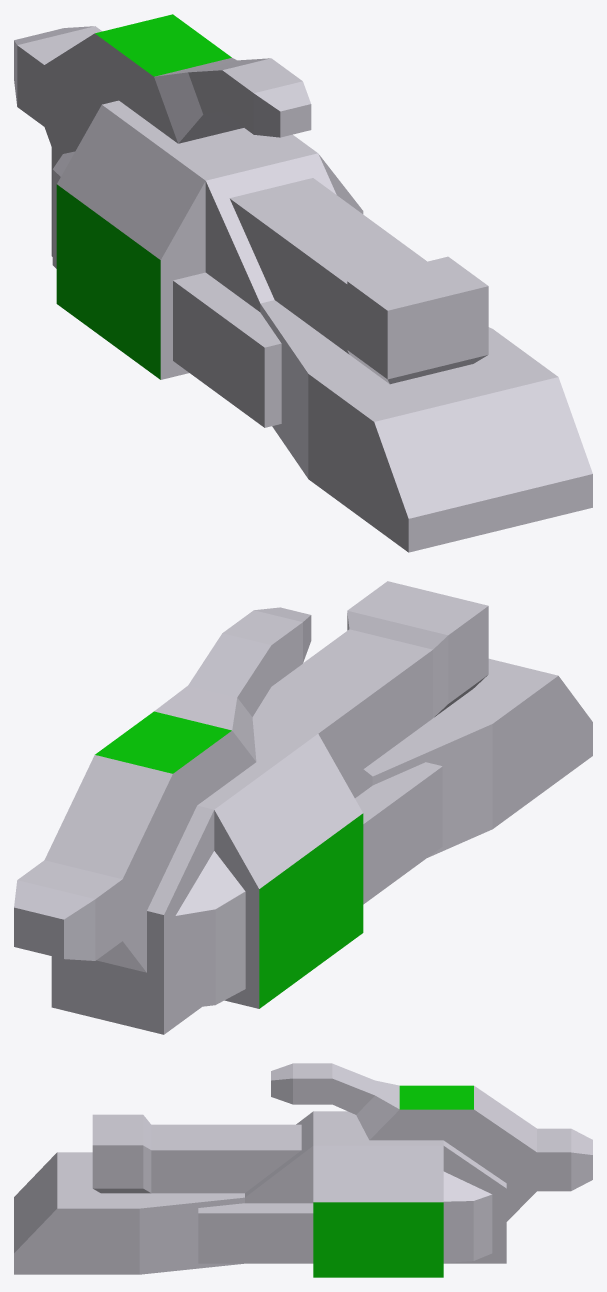
Rendered from Dog Ear.fbx.
3 renders of one model, top to bottom at view 1: azimuth 30°, elevation 25°; view 2: azimuth 150°, elevation 25°; view 3: azimuth 270°, elevation 25°, orthographic. The views are drawn at different scales.
Parts seen in each view (by area): view 1: Dog Ear; view 2: Dog Ear; view 3: Dog Ear.
Boxes of the visible parts, x1,y1,x2,y2 form: Dog Ear: (14, 14, 592, 552); Dog Ear: (14, 581, 592, 1034); Dog Ear: (14, 1063, 592, 1277).
Size of the model in its own units: 2.25 by 2.97 by 8.89.
